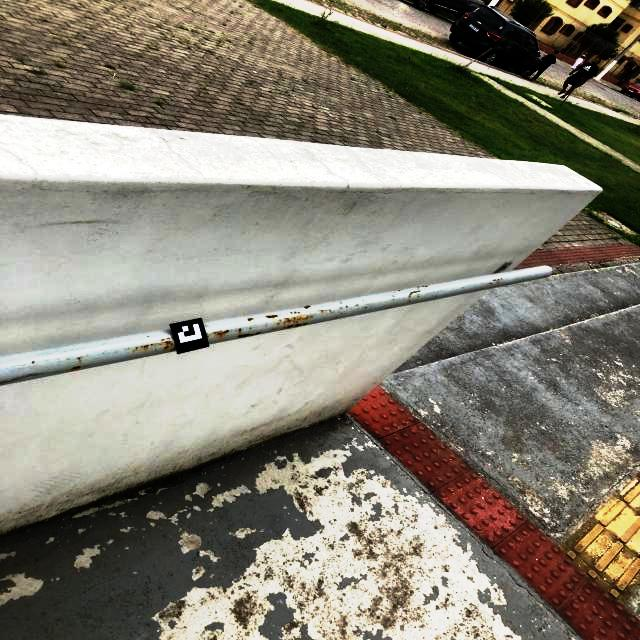Corrosion: (283, 315, 313, 324), (213, 329, 229, 336), (408, 290, 421, 298), (163, 341, 174, 349), (238, 333, 254, 338), (160, 337, 174, 341), (265, 315, 278, 319), (71, 366, 81, 370), (141, 344, 149, 349), (316, 310, 327, 313), (303, 305, 311, 309), (133, 347, 138, 352), (248, 318, 254, 322), (254, 332, 261, 335), (295, 324, 302, 327), (287, 325, 294, 328), (206, 333, 209, 338), (302, 323, 307, 326), (77, 357, 81, 360), (239, 329, 242, 333), (31, 361, 34, 364), (290, 311, 293, 314), (297, 311, 300, 314), (171, 348, 175, 350), (329, 309, 331, 313), (493, 279, 497, 281), (150, 344, 153, 346), (294, 312, 297, 314), (277, 323, 280, 325), (355, 304, 358, 306), (422, 286, 428, 287), (159, 343, 161, 345), (346, 306, 348, 308), (340, 302, 342, 304), (339, 307, 343, 308), (409, 300, 411, 302), (489, 283, 493, 284), (398, 290, 401, 291), (497, 279, 500, 280), (250, 328, 251, 330), (280, 319, 281, 321), (392, 296, 394, 297), (500, 278, 502, 279), (363, 300, 364, 301), (417, 287, 420, 287)
